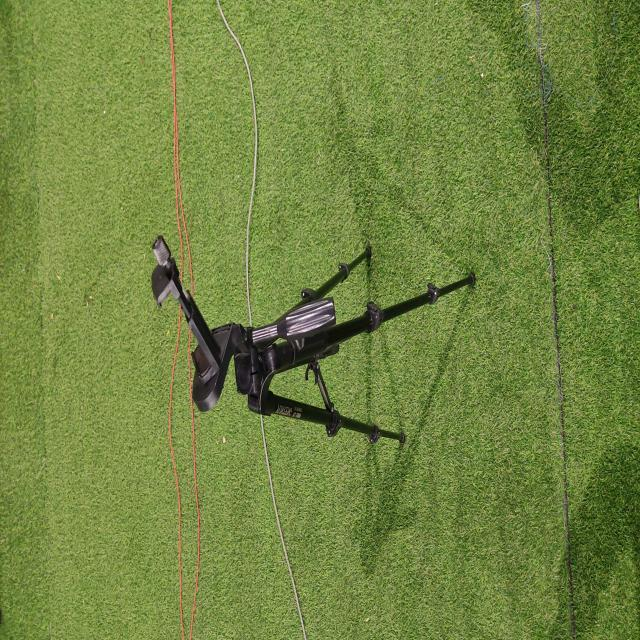Camer Stand: (150, 232, 476, 450)
